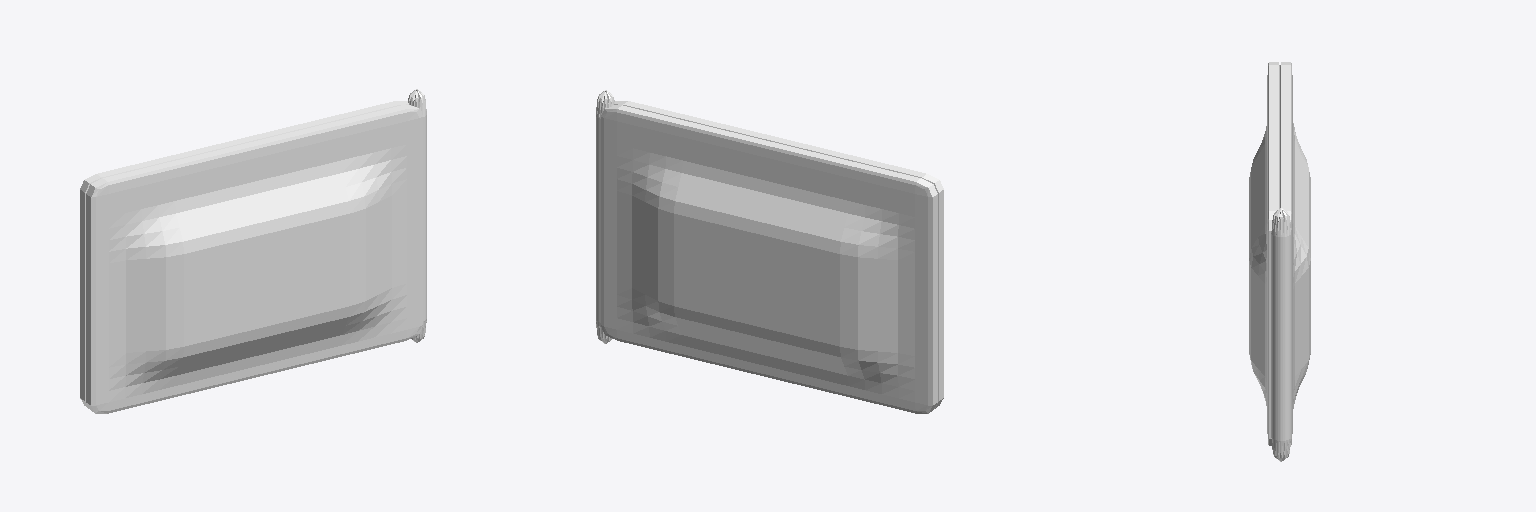
File: bumajnik.obj
The picture shows the model from 3 angles: view 1: azimuth 30°, elevation 25°; view 2: azimuth 150°, elevation 25°; view 3: azimuth 270°, elevation 25°; orthographic projection.
Visible parts, largest first — view 1: Box001, Box002, Cylinder001; view 2: Box002, Box001, Cylinder001; view 3: Box001, Box002, Cylinder001.
Part boxes in pixels (x1,y1,x2,y2): Box001: (86, 105, 422, 413); Box002: (80, 101, 408, 408); Cylinder001: (408, 89, 426, 342); Box002: (601, 105, 937, 413); Box001: (614, 101, 943, 408); Cylinder001: (596, 90, 614, 343); Box001: (1249, 62, 1279, 445); Box002: (1280, 62, 1310, 444); Cylinder001: (1271, 208, 1290, 461).
Size of the model in its own units: 154 by 110 by 24.2.